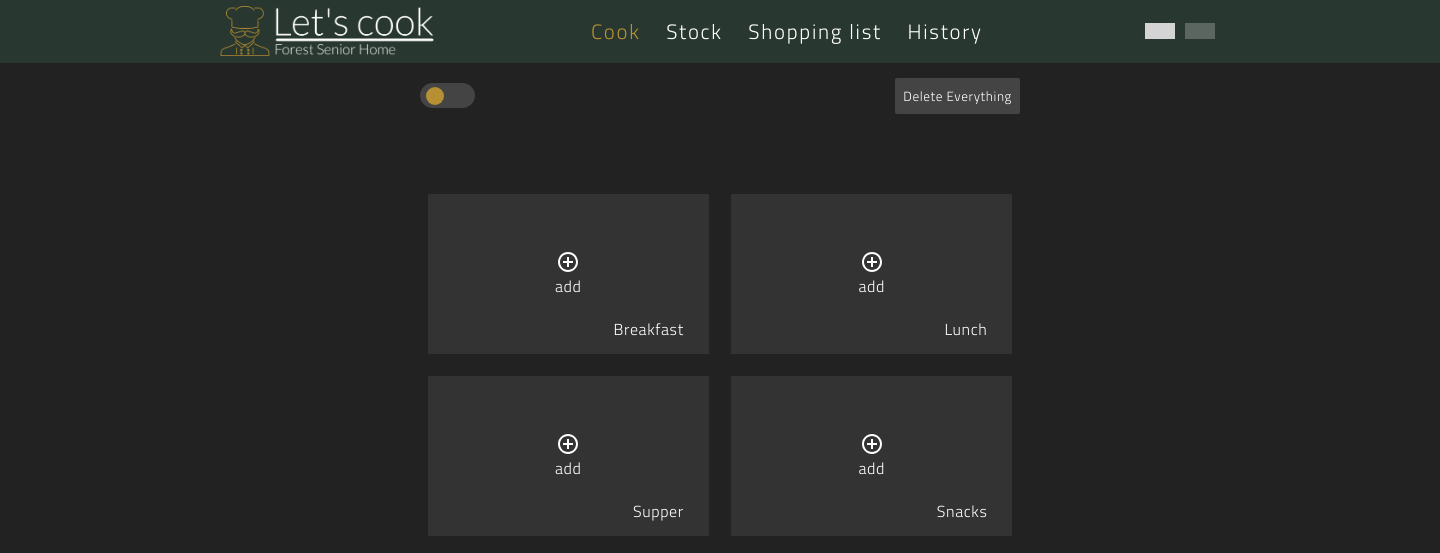
Test: main pages renders › History of cooking component › render History of cooking component after click in Navbar HistoryOfCooking
Click the link "History" at (945, 31), box [908, 15, 983, 47]
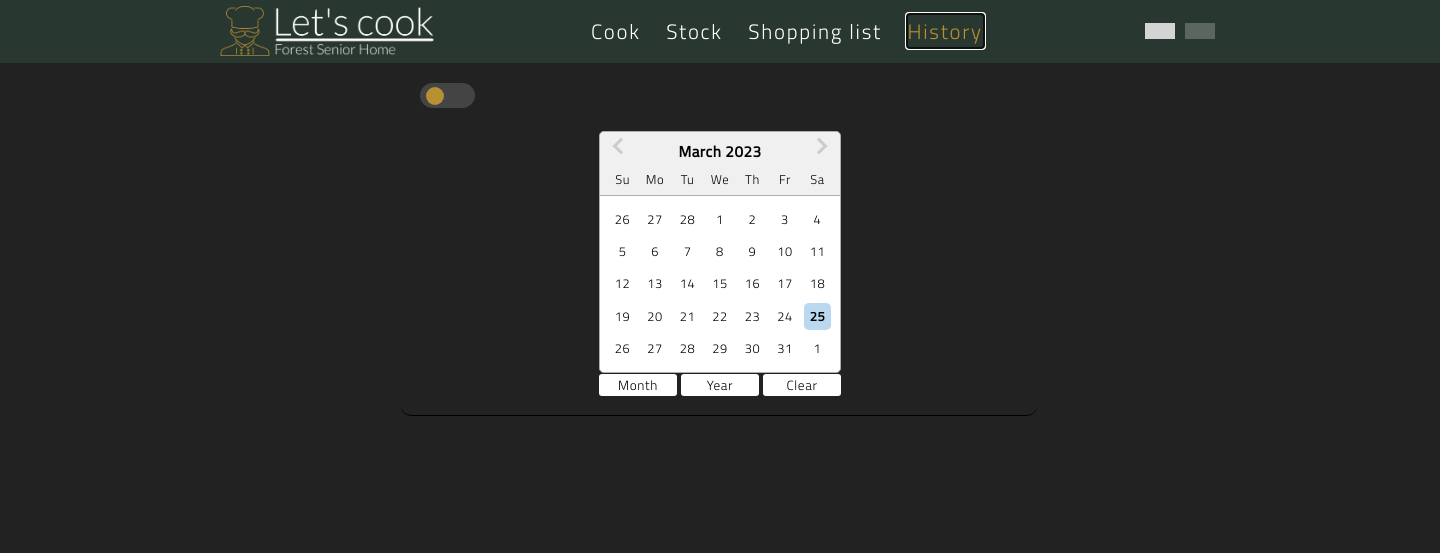
Check: the element with class "datepicker-container" is shown
